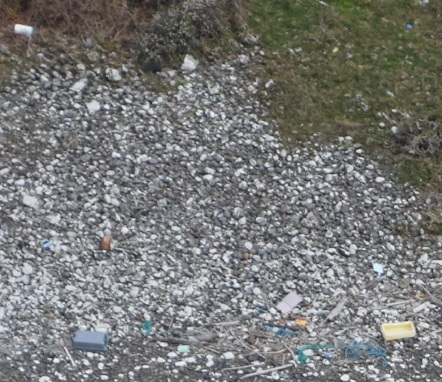together_barrel: (140, 287, 426, 382)
white_in_green: (47, 306, 131, 372), (71, 216, 140, 272), (1, 1, 50, 53)
